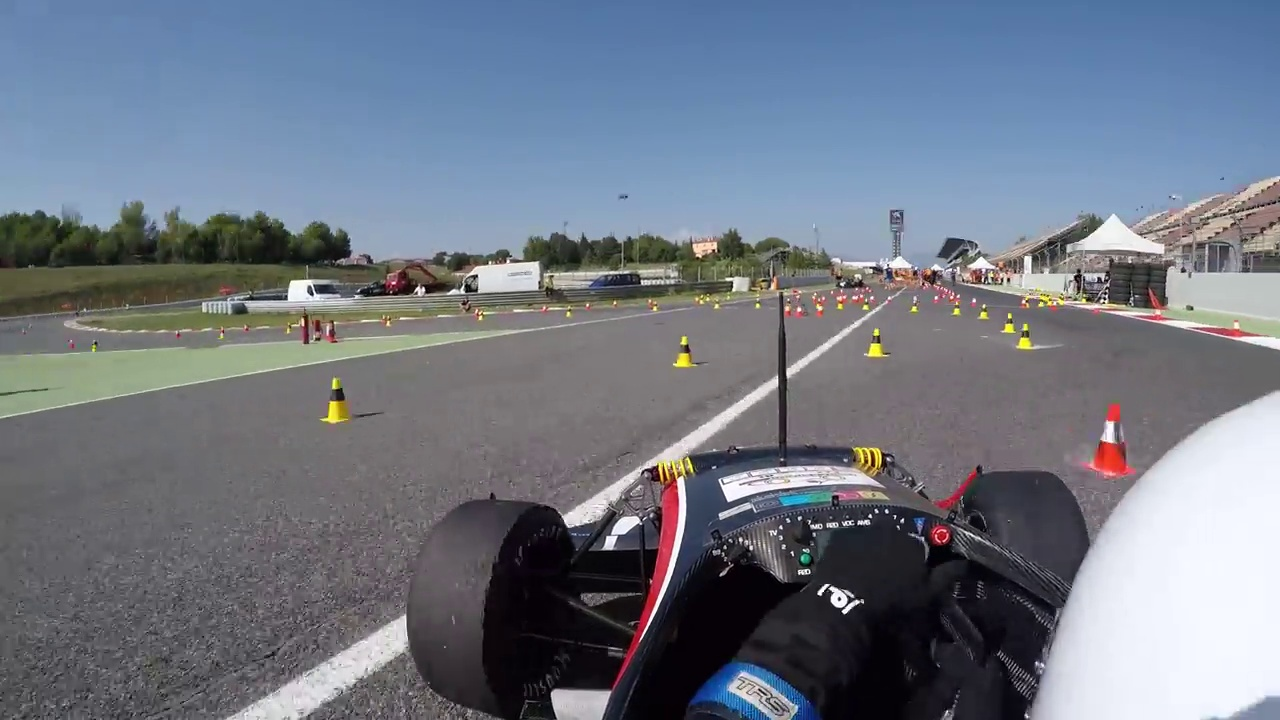Cone: (1088, 402, 1139, 475), (320, 377, 356, 423), (672, 334, 698, 366), (1013, 321, 1036, 350), (867, 326, 888, 356)
